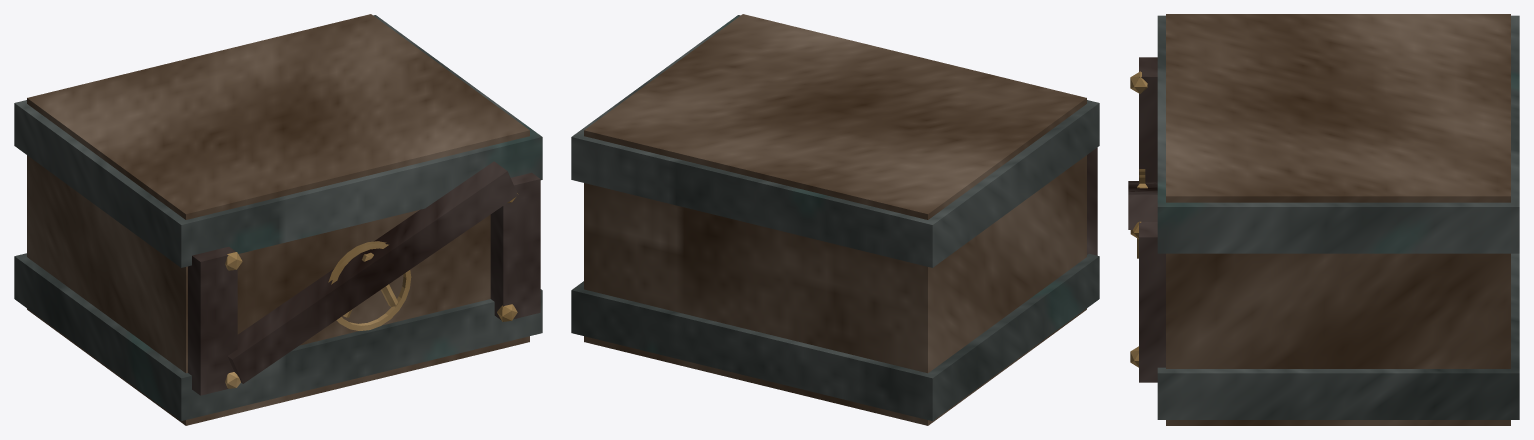
Rendered from 0747_supply_crate_22.glb.
3 renders of one model, left to right at view 1: azimuth 30°, elevation 25°; view 2: azimuth 150°, elevation 25°; view 3: azimuth 270°, elevation 25°, orthographic. The views are drawn at different scales.
Visible parts, largest first — view 1: wood, iron, wood_dark, brass; view 2: wood, iron, wood_dark; view 3: wood, iron, wood_dark, brass.
Boxes of the visible parts, left/top/right/bottom form: wood: left=27, top=14, right=529, bottom=425; iron: left=14, top=15, right=542, bottom=420; wood_dark: left=188, top=161, right=540, bottom=395; brass: left=225, top=193, right=518, bottom=388; wood: left=584, top=14, right=1086, bottom=425; iron: left=571, top=15, right=1099, bottom=420; wood_dark: left=1087, top=147, right=1097, bottom=255; wood: left=1166, top=14, right=1510, bottom=425; iron: left=1157, top=15, right=1519, bottom=419; wood_dark: left=1128, top=57, right=1165, bottom=382; brass: left=1130, top=71, right=1147, bottom=367.
Bounding box in the file's own units: 0.9697 × 0.543 × 0.8385.
Materials: 4 (4 with a texture image).
